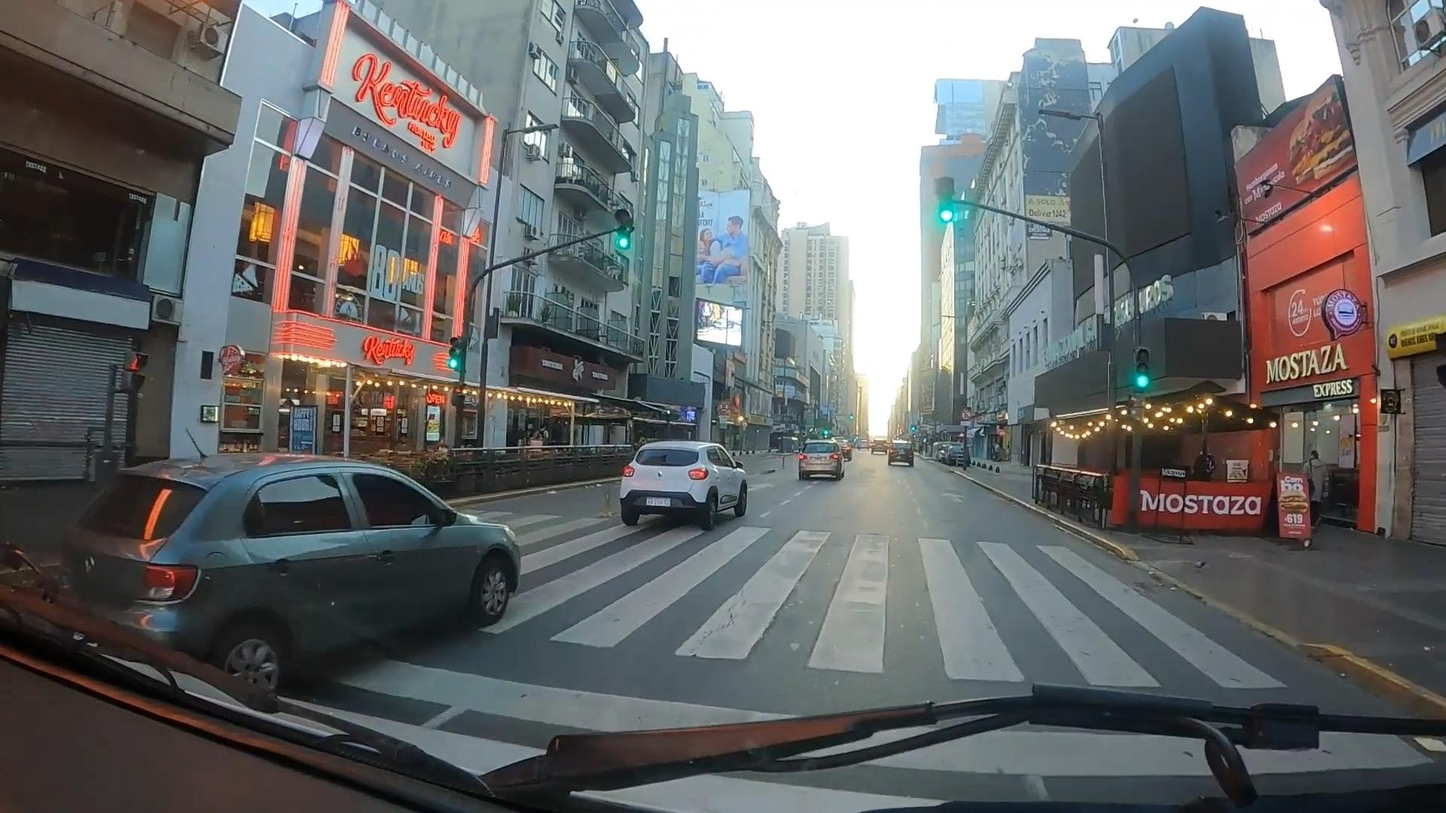Ice: (297, 447, 1420, 769)
